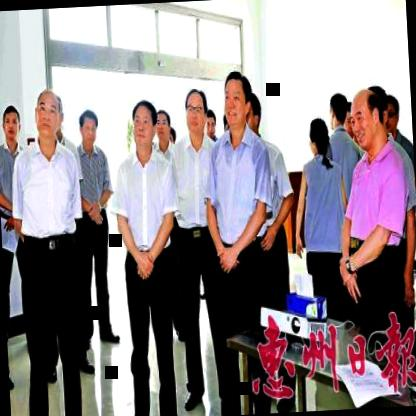head: (347, 88, 387, 154), (222, 70, 256, 138), (33, 85, 65, 145), (128, 96, 160, 155), (183, 84, 210, 144), (306, 113, 330, 162), (242, 88, 264, 138), (78, 106, 101, 153), (325, 89, 349, 133), (0, 102, 23, 142), (154, 105, 174, 147), (384, 93, 402, 136), (203, 107, 217, 142)
